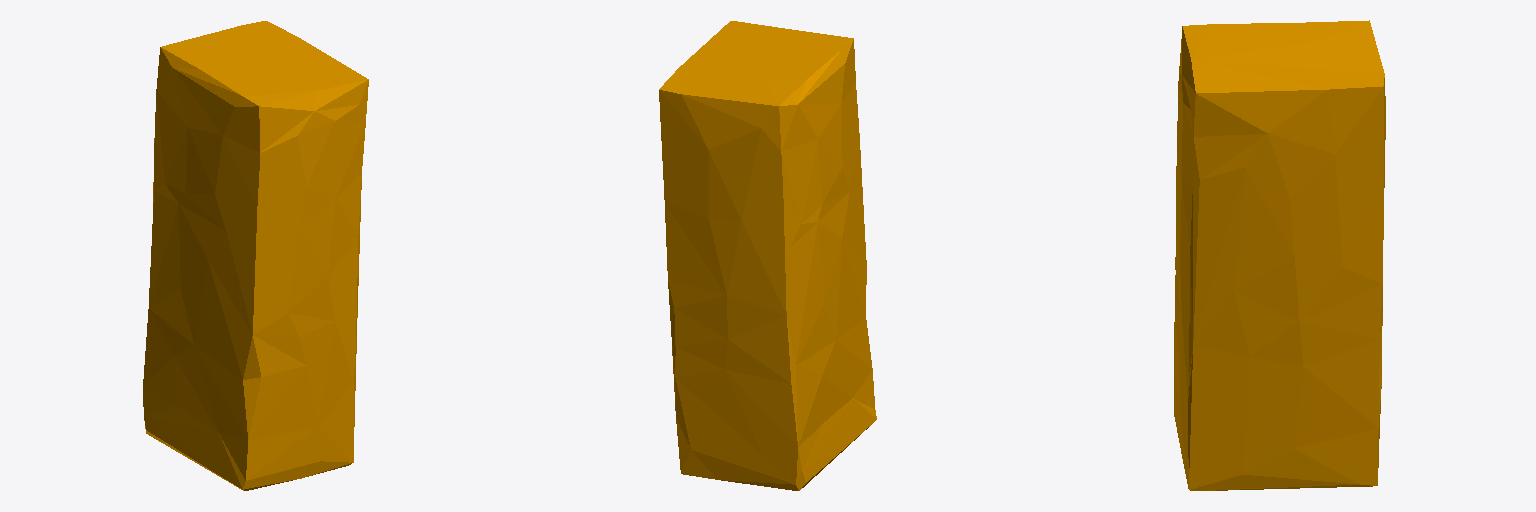
URDF robot description (YellowSaltCube_800_tex):
<?xml version="1.0"?>
<robot name="YellowSaltCube_800_tex">
  <link name="base_link">
    <contact>
      <lateral_friction value="1.0"/>
      <rolling_friction value="0.0"/>
      <contact_cfm value="0.0"/>
      <contact_erp value="1.0"/>
    </contact>
    <inertial>
      <mass value="0.090899004277"/>
      <inertia ixx="1" ixy="0" ixz="0" iyy="1" iyz="0" izz="1"/>
    </inertial>
    <visual>
      <geometry>
        <mesh filename="YellowSaltCube_800_tex_visual.obj"/>
      </geometry>
    </visual>
    <collision>
      <geometry>
        <mesh filename="YellowSaltCube_800_tex_collision.obj"/>
      </geometry>
    </collision>
  </link>
</robot>

--- Facts derived from the render (not from the file) ---
The picture shows the robot from 3 angles, left to right: view 1: azimuth 30°, elevation 25°; view 2: azimuth 150°, elevation 25°; view 3: azimuth 270°, elevation 25°; orthographic projection.
Robot: YellowSaltCube_800_tex — 1 links, 0 joints (none); root link base_link; default pose: every joint at zero.
Links seen in each view (by area): view 1: base_link; view 2: base_link; view 3: base_link.
Link boxes in pixels (x1=…): base_link: x1=143, y1=21, x2=368, y2=490; base_link: x1=659, y1=21, x2=876, y2=490; base_link: x1=1174, y1=20, x2=1385, y2=490.
Size in the robot's own frame: 0.0393 by 0.0449 by 0.0978 metres.
Meshes: 1 distinct files referenced, 1 mesh visuals loaded (1 OBJ).